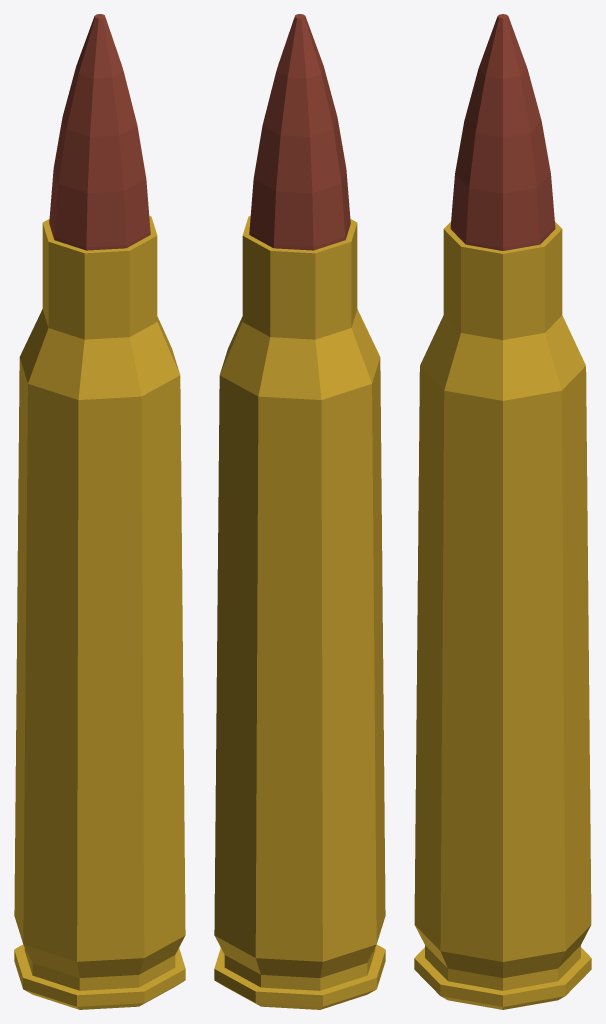
Rendered from Projectile_556x45.fbx.
3 views of the same model, side by side, from view 1: azimuth 30°, elevation 25°; view 2: azimuth 150°, elevation 25°; view 3: azimuth 270°, elevation 25° (orthographic).
Visible parts, largest first — view 1: 5.56x45; view 2: 5.56x45; view 3: 5.56x45.
Boxes of the visible parts, x1,y1,x2,y2 form: 5.56x45: (14, 14, 185, 1009); 5.56x45: (214, 14, 385, 1009); 5.56x45: (414, 14, 591, 1009).
Size of the model in its own units: 0.96 by 5.74 by 0.96.
1 material, 1 textured.
